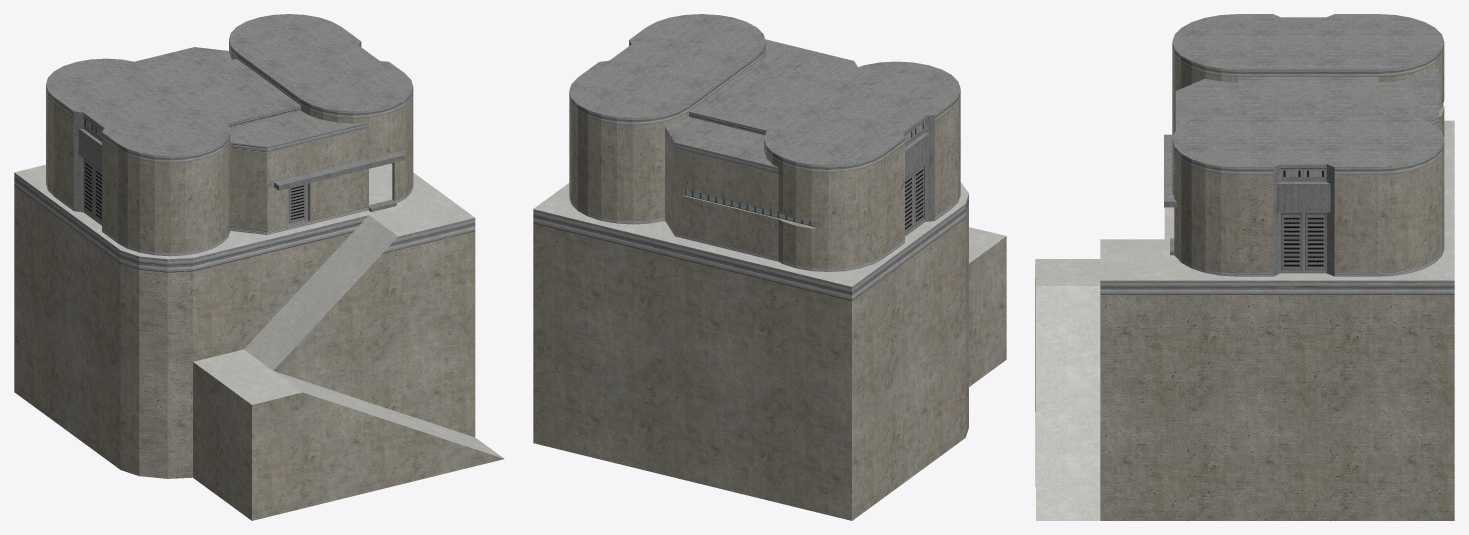
The model's file is ply_all_house_m_s01_fp1_r0_exterior_mesh_l0.fbx.
3 renders of one model, left to right at view 1: azimuth 30°, elevation 25°; view 2: azimuth 150°, elevation 25°; view 3: azimuth 270°, elevation 25°, orthographic. The views are drawn at different scales.
Visible parts, largest first — view 1: mesh_node; view 2: mesh_node; view 3: mesh_node.
Boxes of the visible parts, x1,y1,x2,y2 form: mesh_node: (14,14,504,520); mesh_node: (533,14,1006,520); mesh_node: (1035,14,1454,520).
Size of the model in its own units: 23.53 by 24 by 26.07.
